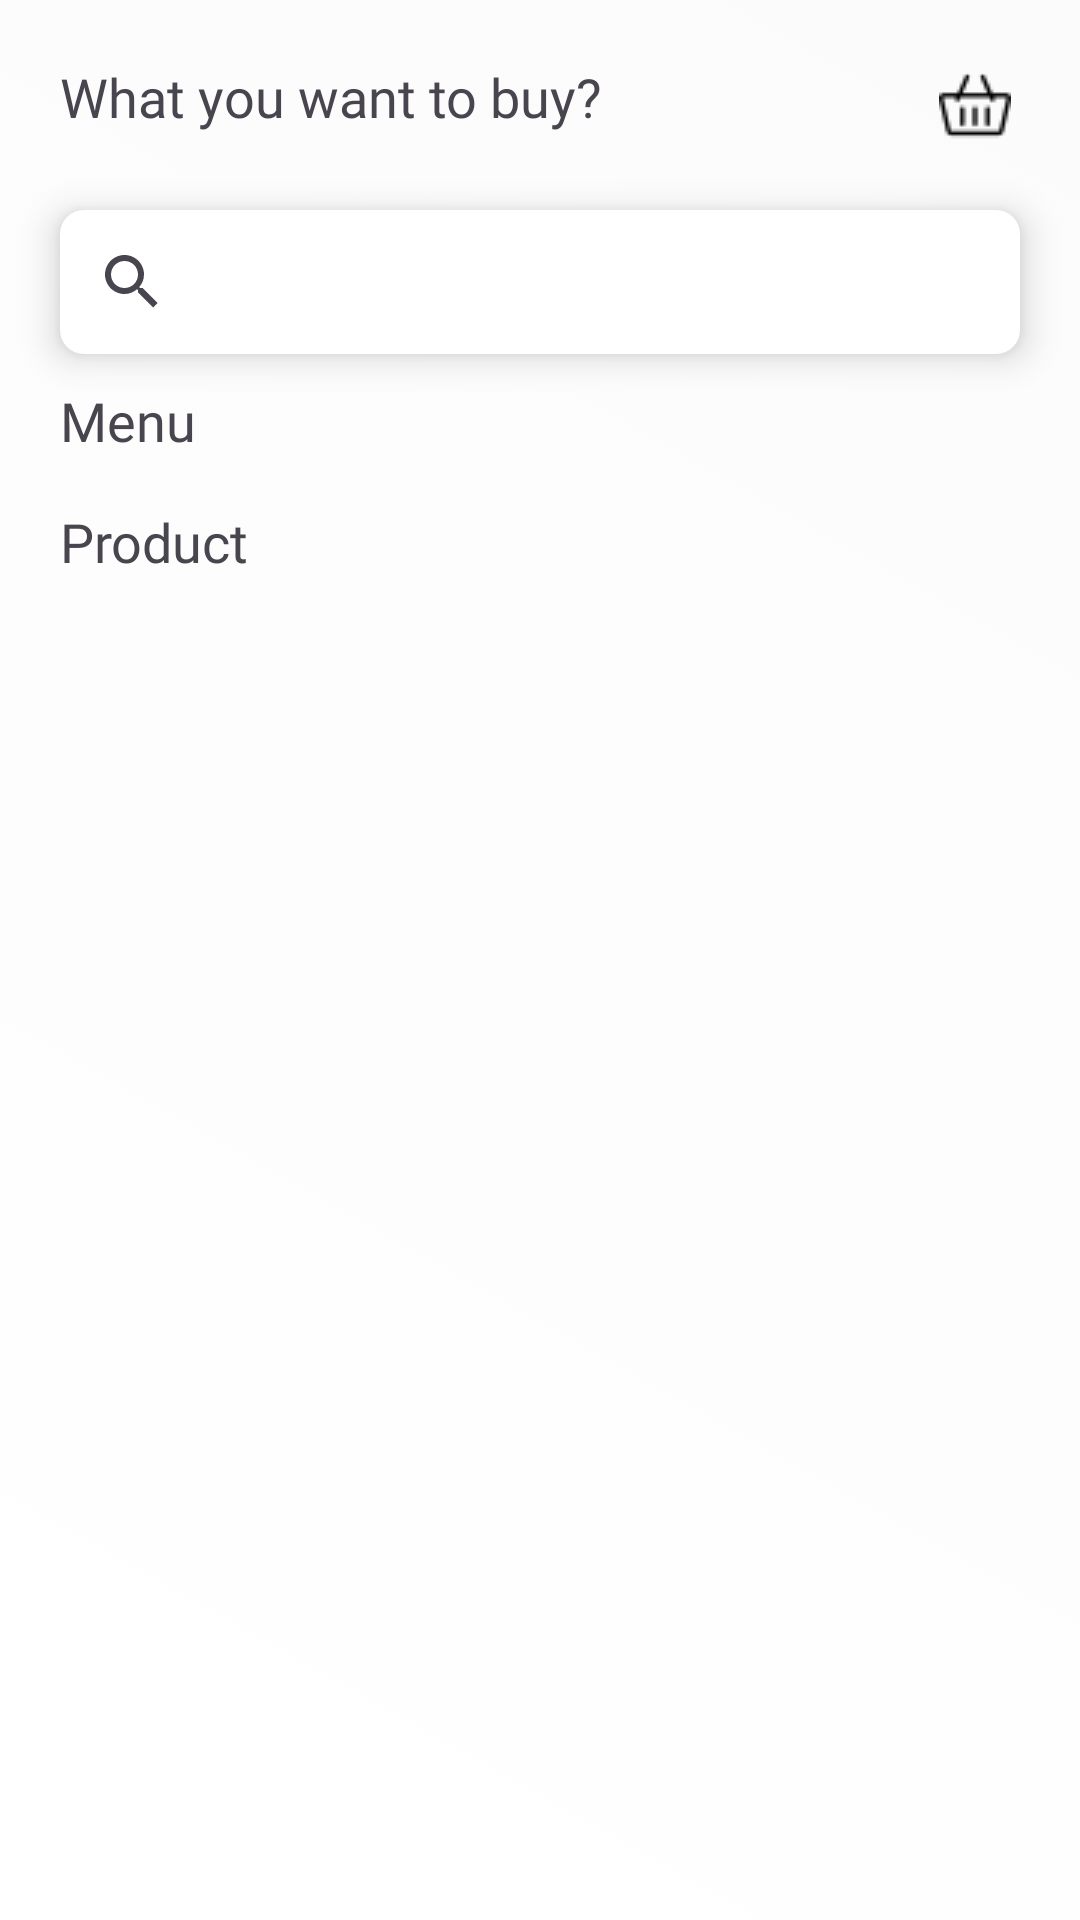

Where to tap for icons on this 1080x1920 app screen, as (x=x, y=y):
cart: (x=975, y=105)
